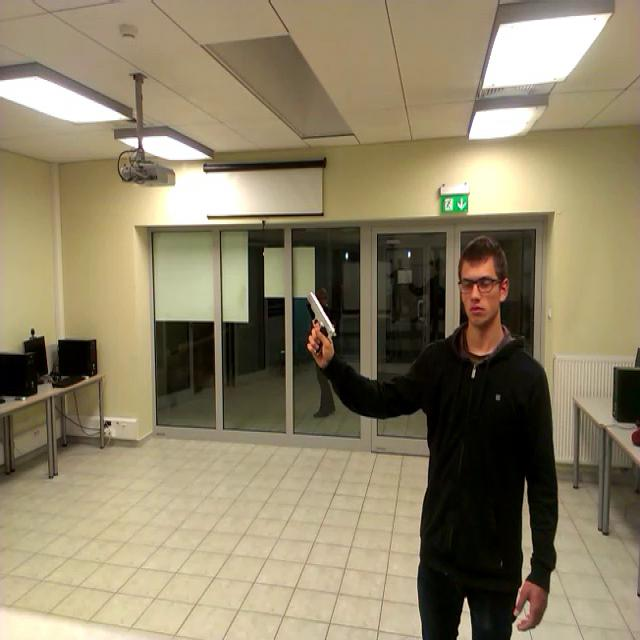handgun: (300, 282, 346, 380)
